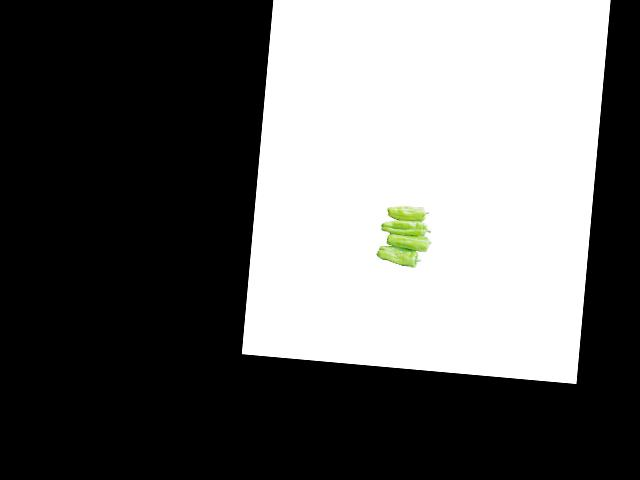bell_pepper: (372, 244, 424, 268)
